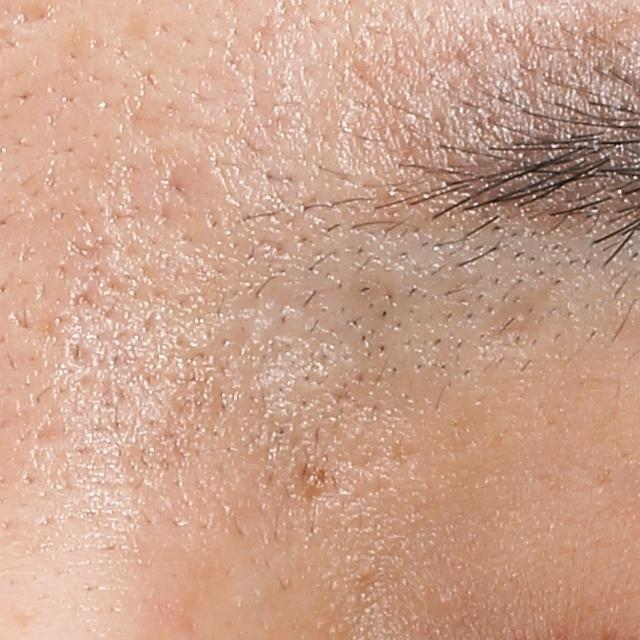atrophic_scar: (19, 2, 61, 25)
comedo: (436, 593, 453, 610)
